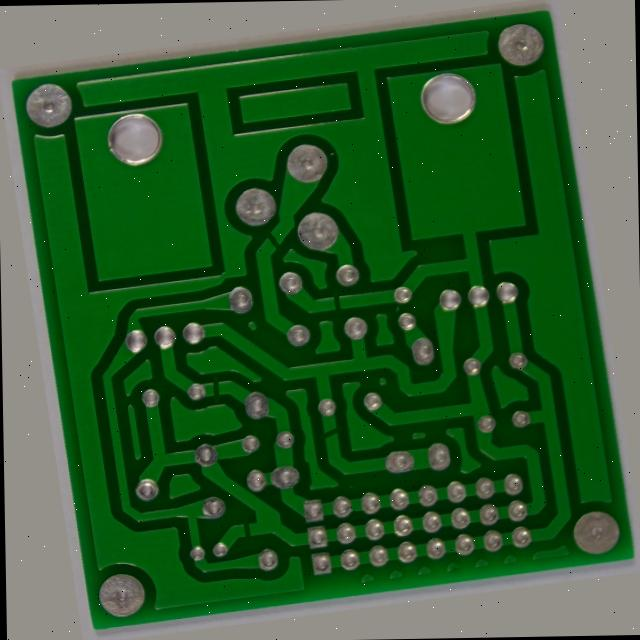open_circuit: (302, 431, 326, 459), (267, 216, 292, 240), (194, 527, 216, 554), (331, 289, 349, 317), (183, 370, 201, 395)
